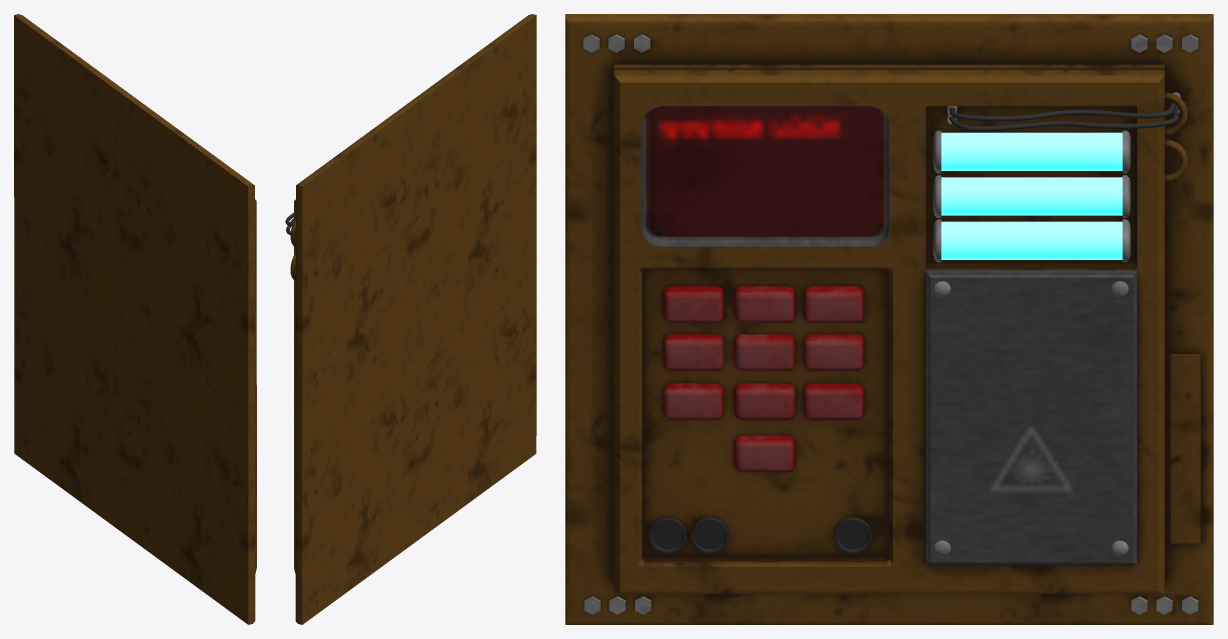
The model's file is sci-fi_control_panel.glb.
3 views of the same model, side by side, from view 1: azimuth 30°, elevation 25°; view 2: azimuth 150°, elevation 25°; view 3: azimuth 270°, elevation 25° (orthographic). The views are drawn at different scales.
Visible parts, largest first — view 1: Base; view 2: Base; view 3: Base, pCylinder6, pCylinder4, pCylinder5, Bolts, pCube9, pCube12, pCube3, pCube6, pCube8, pCube4, pCube2 (+9 smaller).
Boxes of the visible parts, <box> form: Base: <box>14,14,256,624</box>; Base: <box>294,14,536,624</box>; Base: <box>565,14,1213,624</box>; pCylinder6: <box>933,219,1130,262</box>; pCylinder4: <box>933,130,1130,173</box>; pCylinder5: <box>933,175,1130,217</box>; Bolts: <box>583,34,1198,614</box>; pCube9: <box>733,383,795,420</box>; pCube12: <box>733,435,795,472</box>; pCube3: <box>733,286,795,323</box>; pCube6: <box>733,334,795,371</box>; pCube8: <box>803,383,864,420</box>; pCube4: <box>803,286,864,323</box>; pCube2: <box>662,286,723,323</box>.
Bounding box in the file's own units: 0.0386 × 0.3853 × 0.3727.
1 material, 1 textured.
